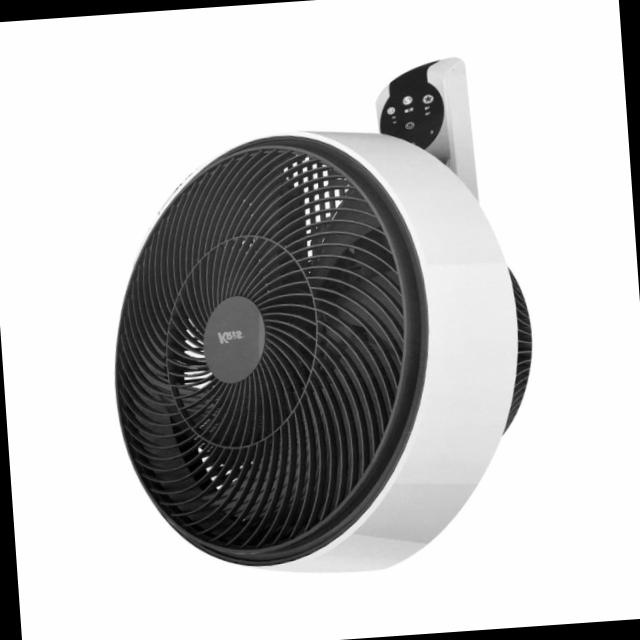fan: (77, 41, 561, 606)
